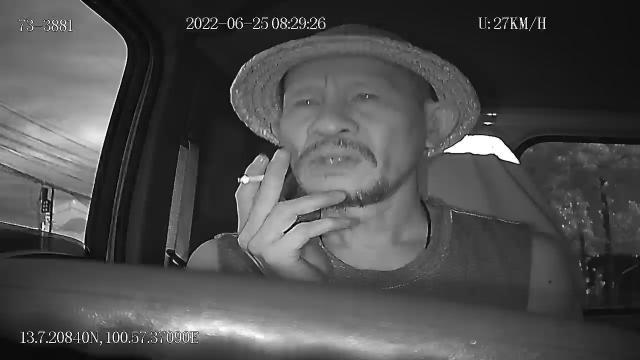SafeDriving: (348, 80, 384, 108), (291, 87, 325, 114)
Smoking: (236, 172, 264, 186)
